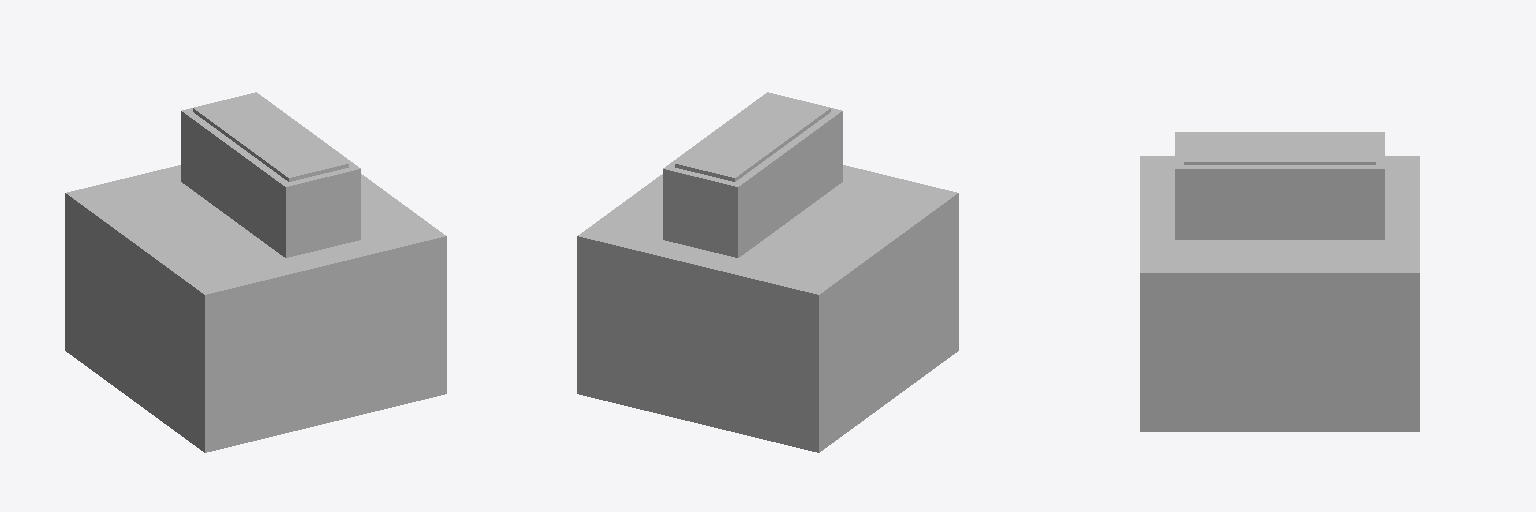
Rendered from timedbomb.obj.
3 views of the same model, side by side, from view 1: azimuth 30°, elevation 25°; view 2: azimuth 150°, elevation 25°; view 3: azimuth 270°, elevation 25° (orthographic).
Visible parts, largest first — view 1: cube; view 2: cube; view 3: cube.
Part boxes in pixels (bbox=[...]): cube: bbox=[65, 92, 446, 452]; cube: bbox=[577, 92, 958, 452]; cube: bbox=[1140, 132, 1419, 431].
Bounding box in the file's own units: 1 × 0.9219 × 1.